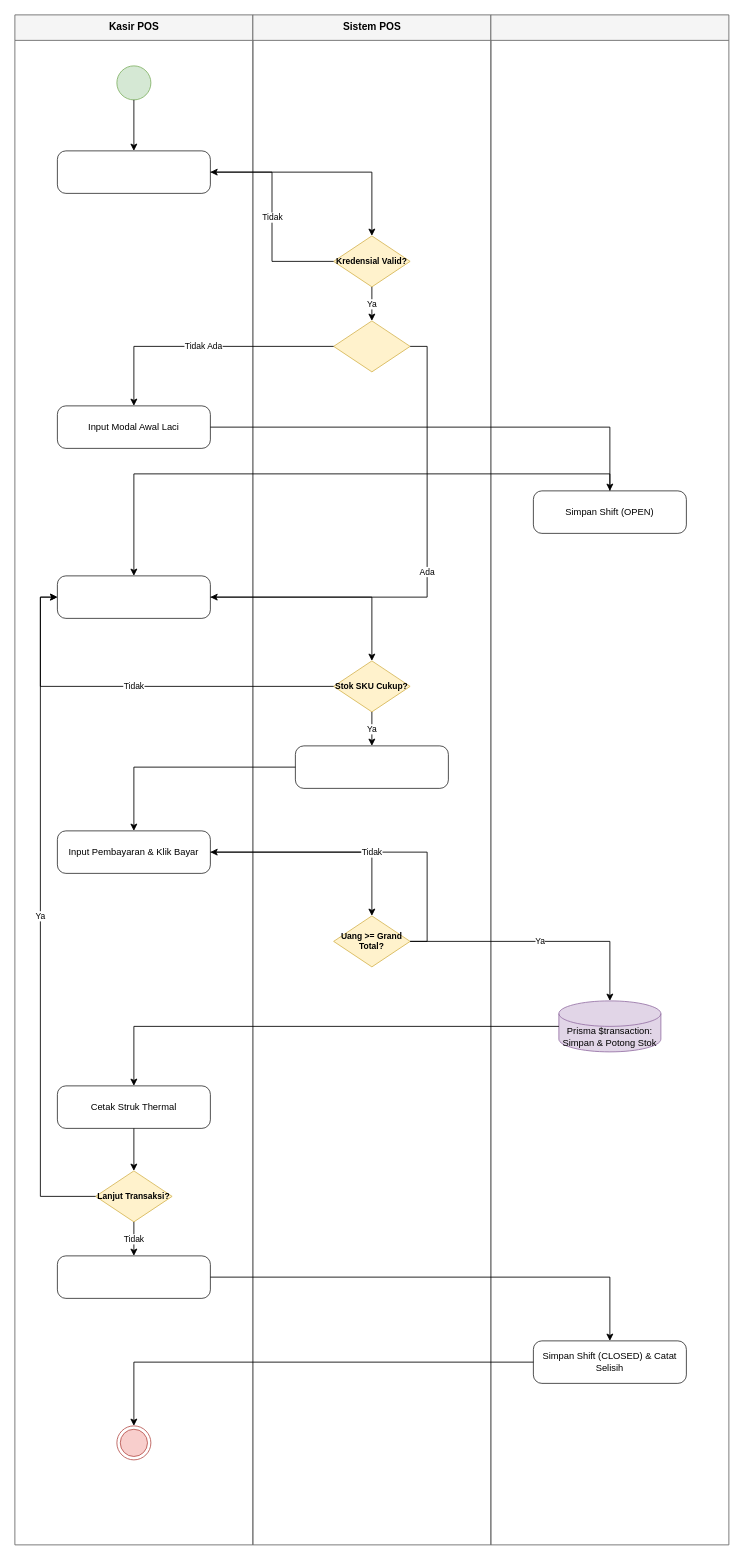
This 744x1560 diagram has some shape labels left out. The shapes that lost their labels are listed below. From the top down, each one's box as (x1, y1, x2, y2) in pixels, then its label:
(57, 150, 210, 193): Login ke POS
(333, 320, 410, 372): Ada Shift OPEN?
(57, 575, 210, 618): Pilih Varian & SKU Sepatu
(295, 745, 448, 788): Auto-Apply Promo
(490, 14, 729, 1545): Database POS
(57, 1255, 210, 1298): Input Total Uang Fisik & Tutup Shift
